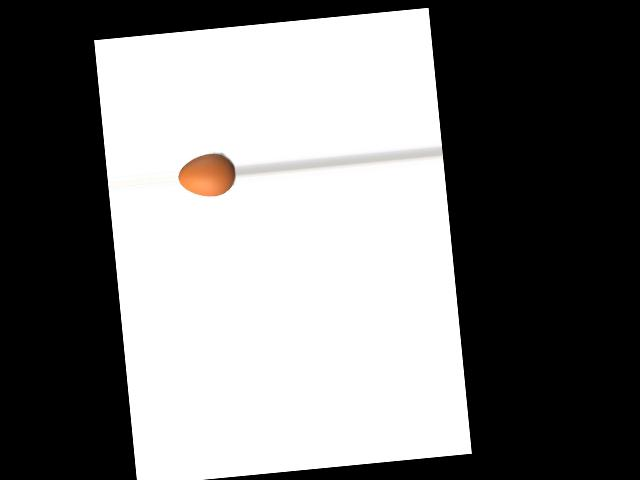egg: (177, 151, 237, 199)
